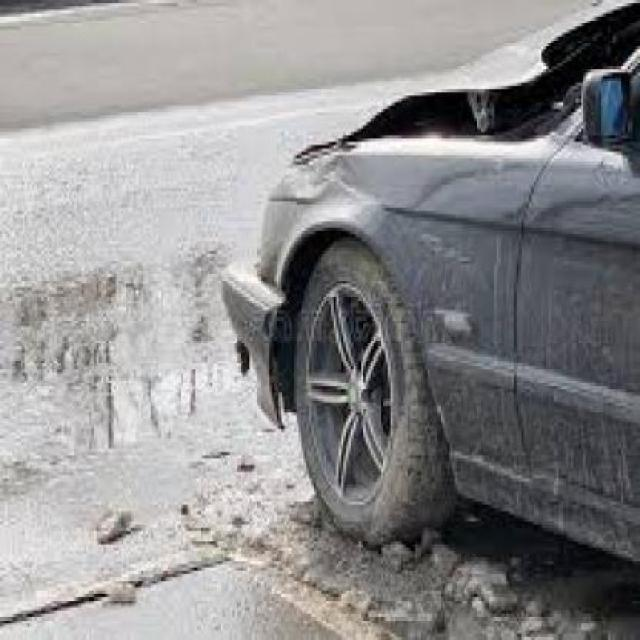damaged-hood: (296, 0, 637, 158)
